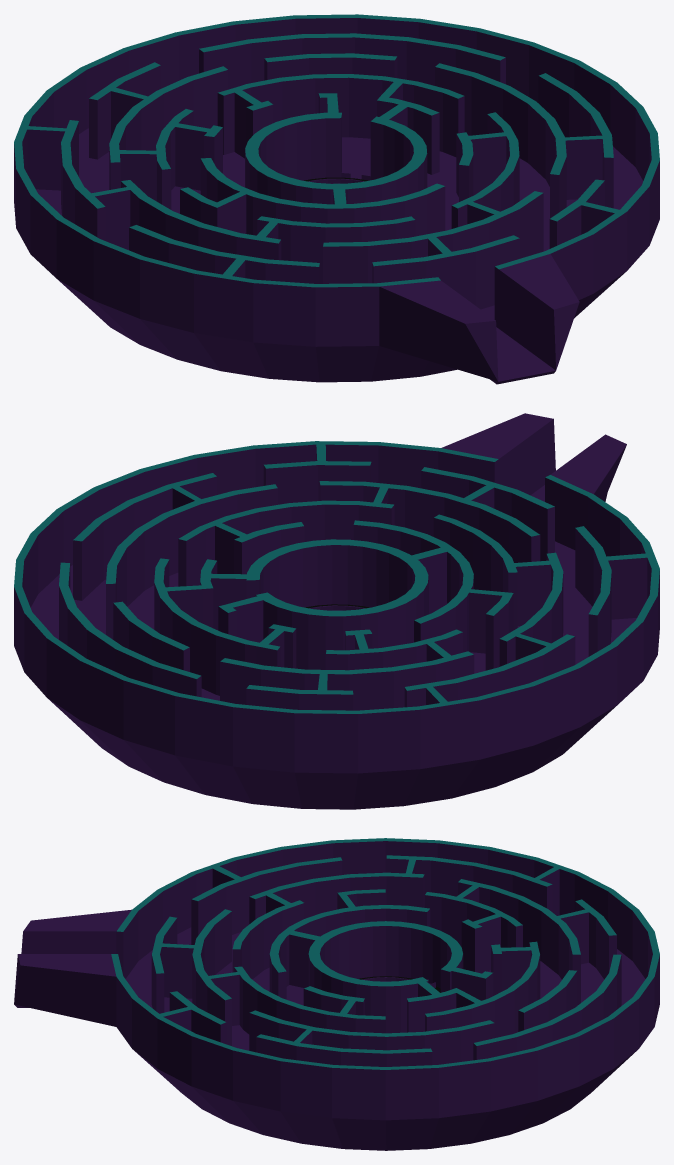
The model's file is Labyrinthe.fbx.
The picture shows the model from 3 angles, top to bottom: view 1: azimuth 30°, elevation 25°; view 2: azimuth 150°, elevation 25°; view 3: azimuth 270°, elevation 25°; orthographic projection. The views are drawn at different scales.
Parts seen in each view (by area): view 1: Labyrinthe.001; view 2: Labyrinthe.001; view 3: Labyrinthe.001.
Part boxes in pixels (x1,y1,x2,y2): Labyrinthe.001: (14,14,659,384); Labyrinthe.001: (14,413,659,809); Labyrinthe.001: (14,838,659,1150).
Size of the model in its own units: 13751 by 2853 by 16186.
